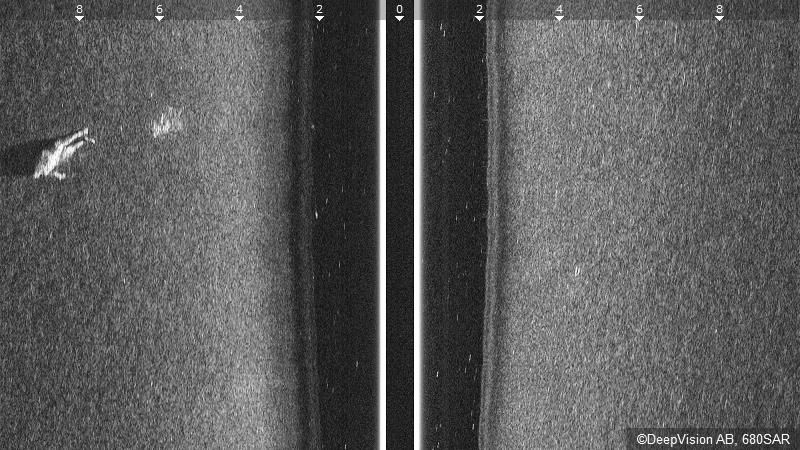man: (31, 124, 97, 183)
